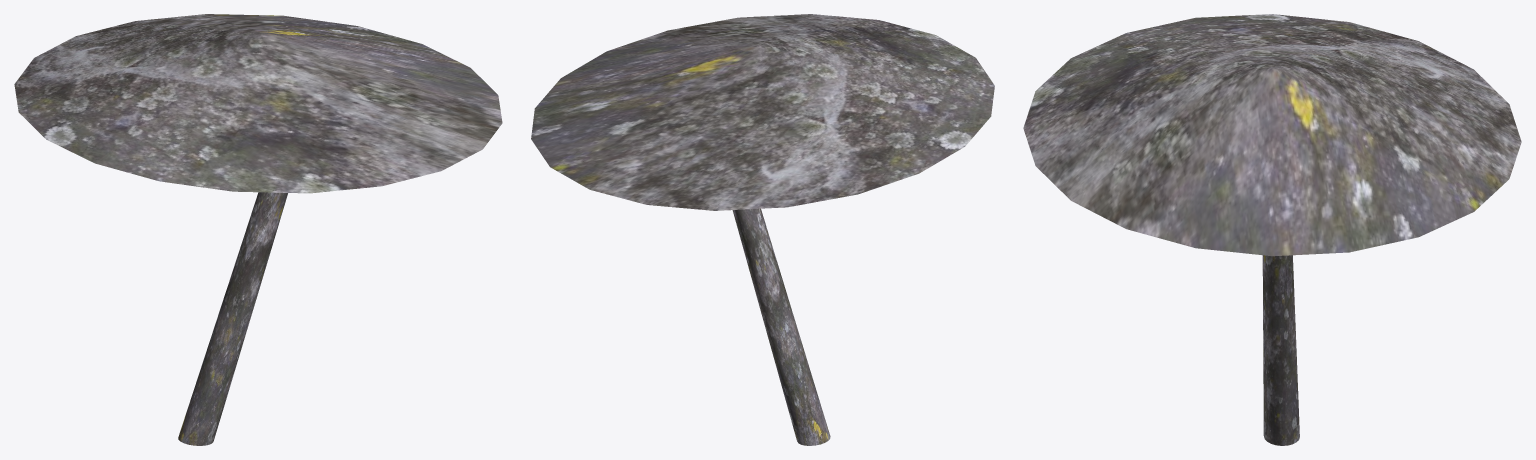
Rendered from mushroom.fbx.
3 renders of one model, left to right at view 1: azimuth 30°, elevation 25°; view 2: azimuth 150°, elevation 25°; view 3: azimuth 270°, elevation 25°, orthographic. The views are drawn at different scales.
Visible parts, largest first — view 1: pasted__mushroom_2; view 2: pasted__mushroom_2; view 3: pasted__mushroom_2.
Part boxes in pixels (left/top/right/bottom): pasted__mushroom_2: left=14, top=14, right=502, bottom=445; pasted__mushroom_2: left=531, top=14, right=994, bottom=445; pasted__mushroom_2: left=1023, top=14, right=1521, bottom=445.
Bounding box in the file's own units: 11.28 × 10.04 × 11.31.
